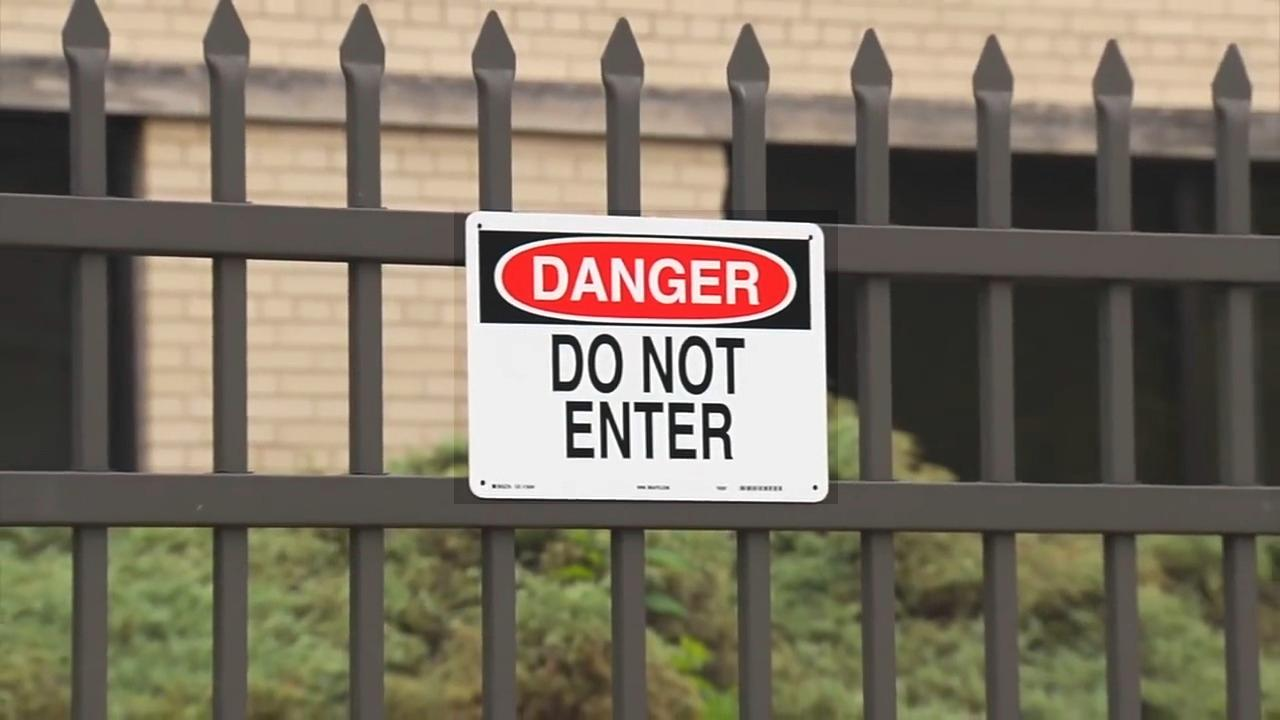safety_signage: (454, 210, 838, 504)
